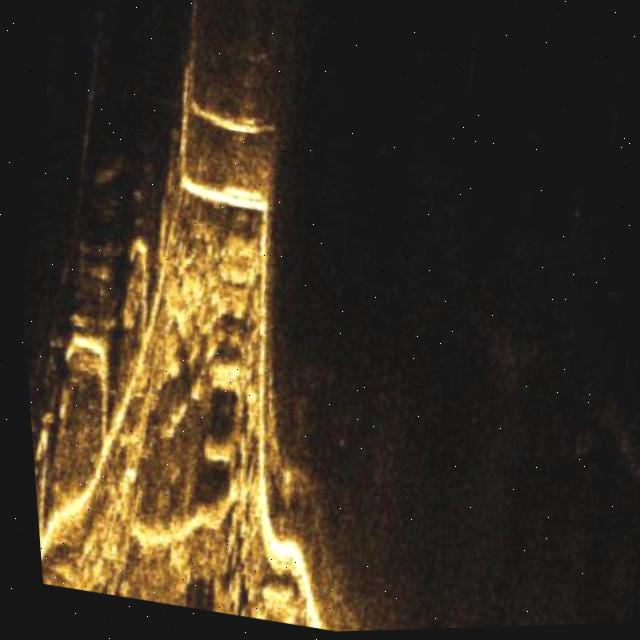bedrock group: (13, 201, 370, 634)
